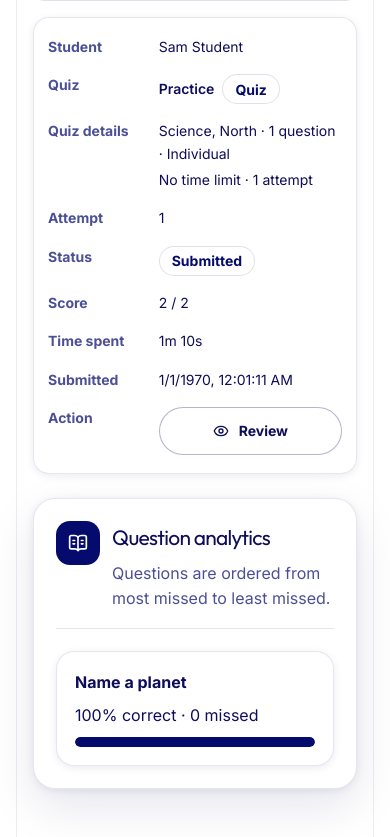
instructor quiz results page › shows class label, submission stats and attempt detail with computed duration
The image size is (390, 837).
(page scrolled)
Expected: the text "1m 10s" is shown, [48,326,342,357]
Step 1. Click the button "Review" → x=250, y=431, box [159,407,342,455]
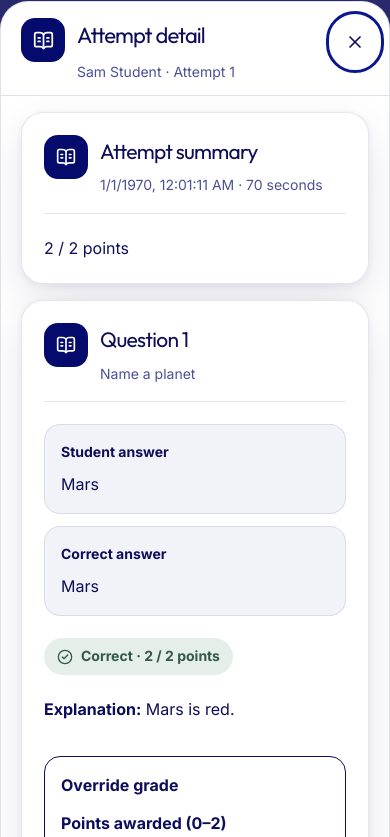
Now the text "Student answer" is shown, box [61,443,169,460]
Now the text "Correct answer" is shown, box [61,545,167,562]
Now the text "1/1/1970, 12:01:11 AM · 70 seconds" is shown, box [100,174,323,197]
